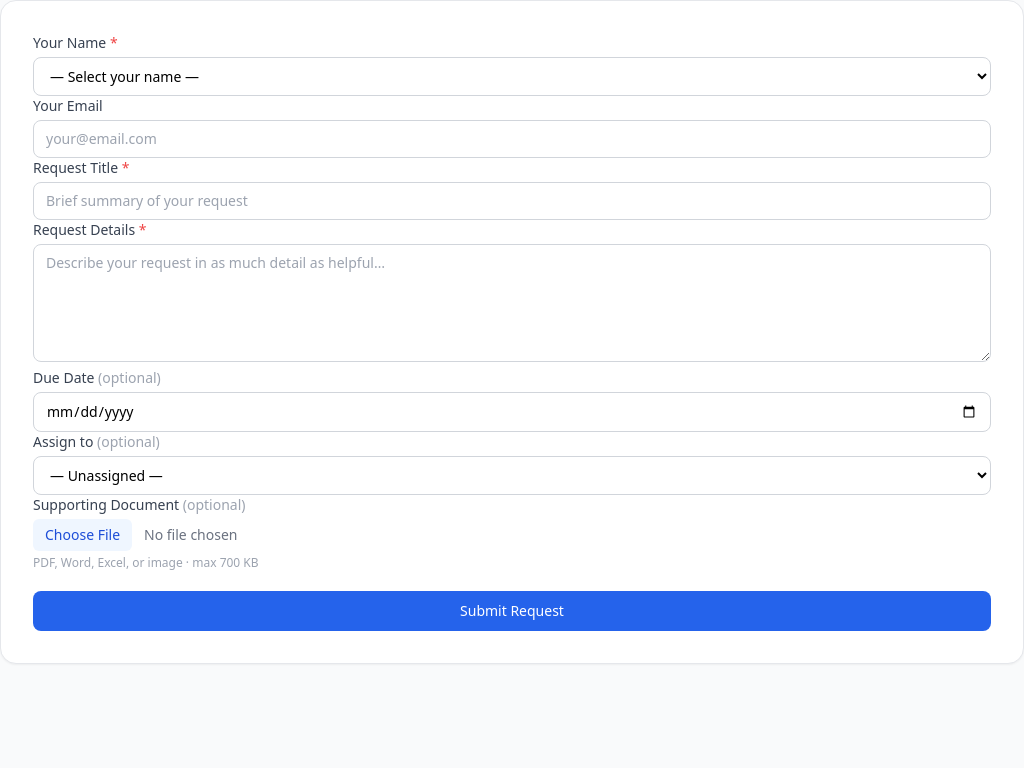
Test case: IntakeForm — email pre-fill › pre-fills email when Test User Two is selected
The width and height of the screenshot is (1024, 768).
Select "Test User Two" in the dropdown labelled "Your Name *" at [512, 76], box [33,57,991,96]
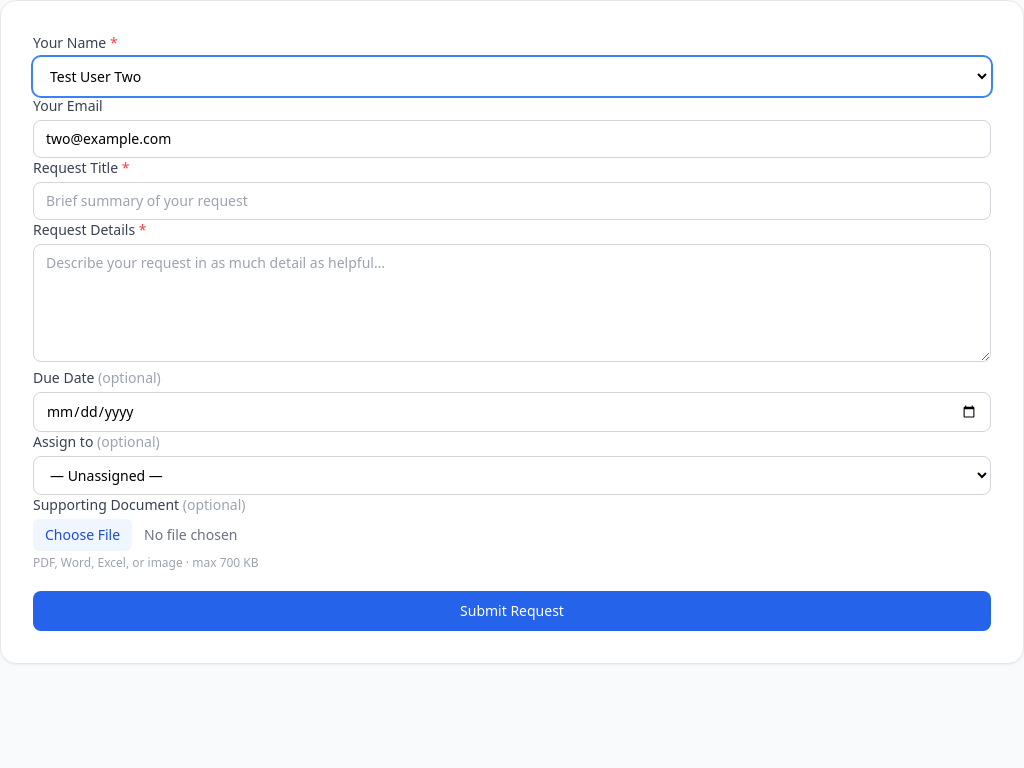
Result: the field labelled "Your Email" holds "two@example.com" at [33,120,991,158]
